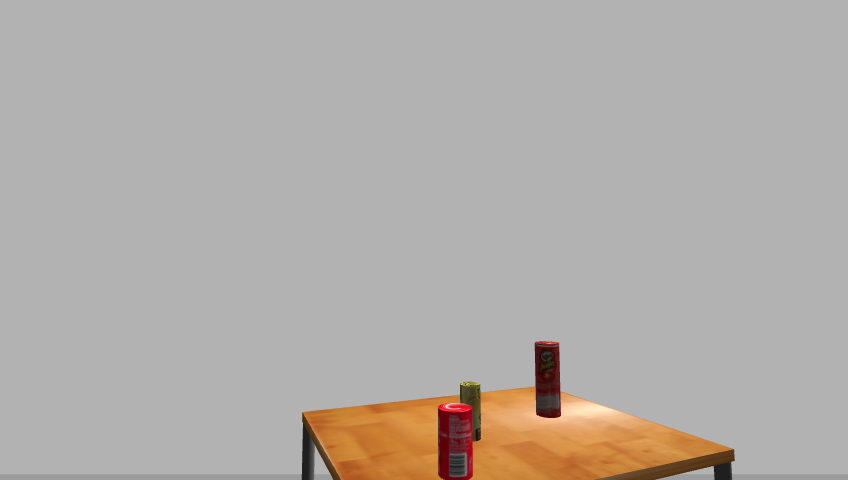biscuits pack: (459, 381, 482, 443)
coke can: (435, 403, 474, 480)
dinner table: (291, 387, 745, 480)
pringles can: (532, 340, 563, 420)
